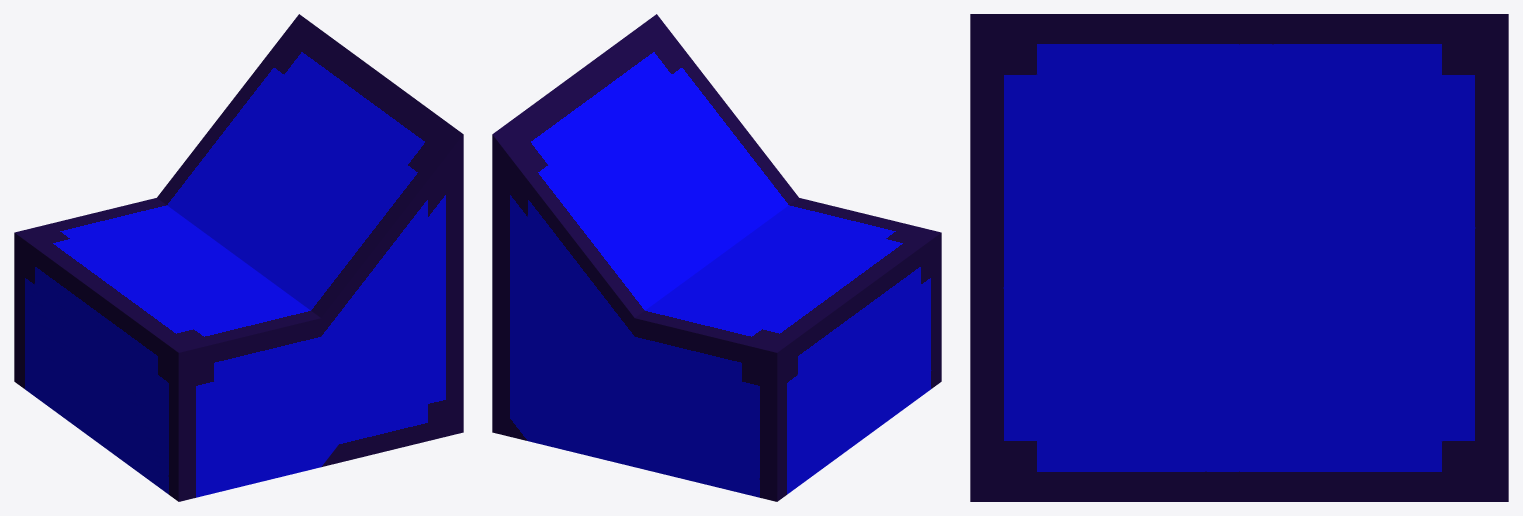
The model's file is 7_blue.obj.
The picture shows the model from 3 angles, left to right: view 1: azimuth 30°, elevation 25°; view 2: azimuth 150°, elevation 25°; view 3: azimuth 270°, elevation 25°; orthographic projection. The views are drawn at different scales.
Visible parts, largest first — view 1: 7_blue; view 2: 7_blue; view 3: 7_blue.
Part boxes in pixels (x1,y1,x2,y2): 7_blue: (14,14,463,501); 7_blue: (492,14,941,501); 7_blue: (970,14,1508,501).
Size of the model in its own units: 1 by 1 by 1.
1 material, 1 textured.
